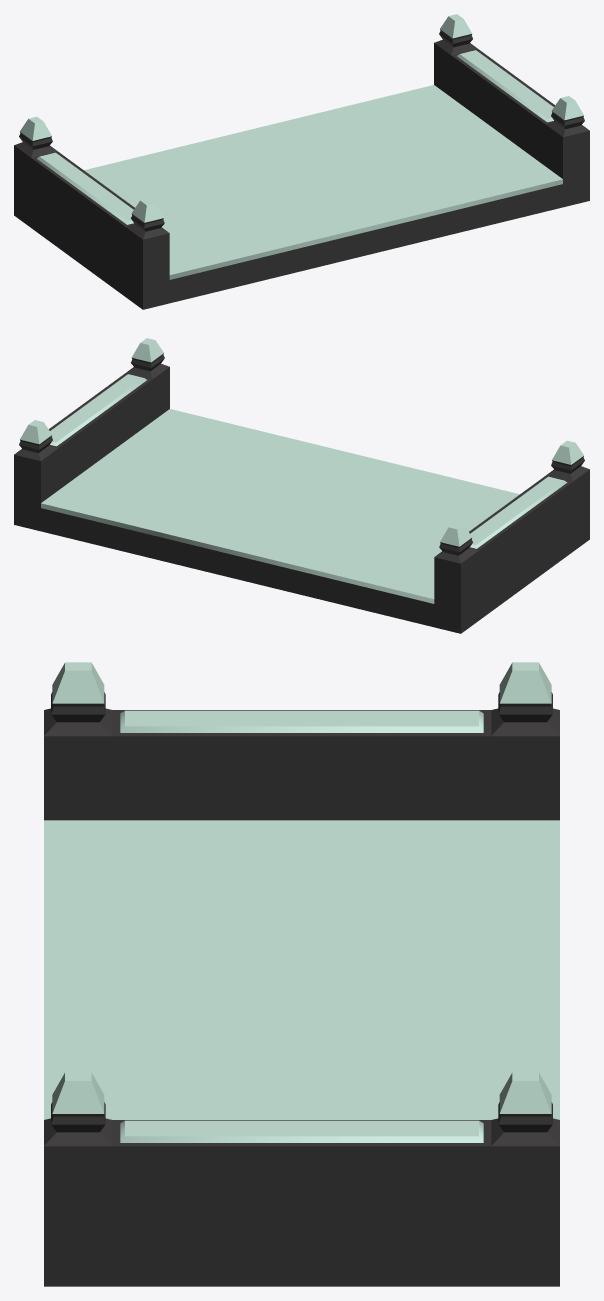
The model's file is winter-bridge-wide-section.glb.
3 renders of one model, top to bottom at view 1: azimuth 30°, elevation 25°; view 2: azimuth 150°, elevation 25°; view 3: azimuth 270°, elevation 25°, orthographic. The views are drawn at different scales.
Visible parts, largest first — view 1: WinterBridgeWide_Begin; view 2: WinterBridgeWide_Begin; view 3: WinterBridgeWide_Begin.
Boxes of the visible parts, x1,y1,x2,y2 form: WinterBridgeWide_Begin: (14, 14, 589, 309); WinterBridgeWide_Begin: (14, 338, 589, 633); WinterBridgeWide_Begin: (44, 662, 559, 1286).
Size of the model in its own units: 400 by 84.17 by 200.
1 material, 1 textured.
